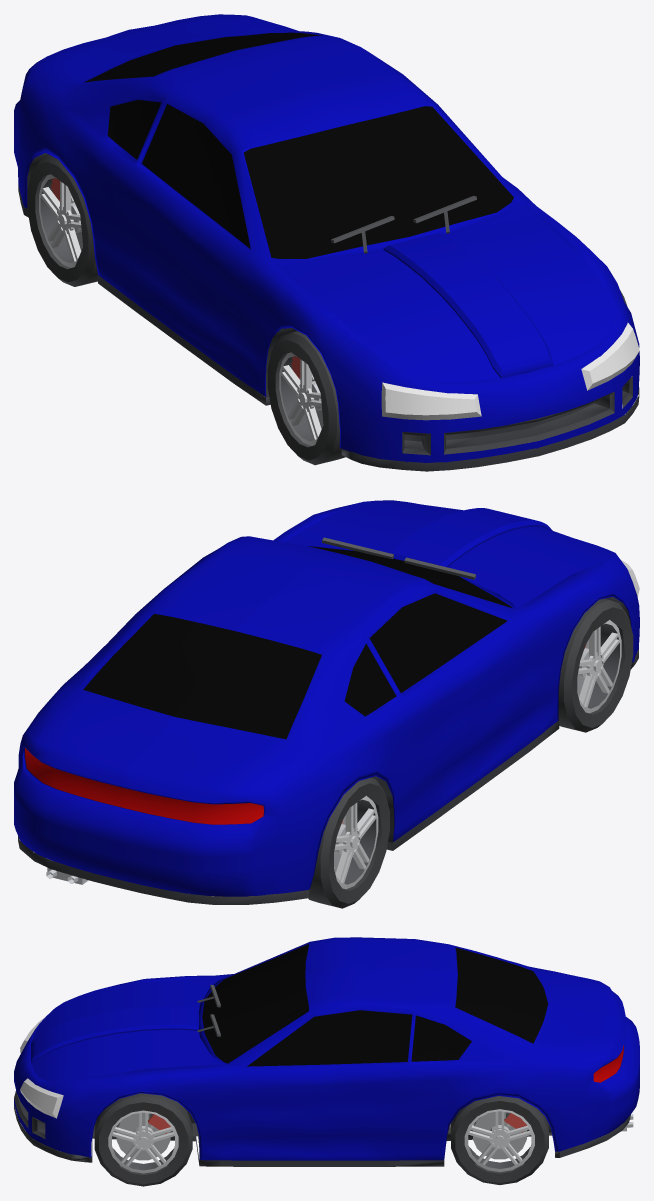
File: ridecheck-car.glb
The picture shows the model from 3 angles, top to bottom: view 1: azimuth 30°, elevation 25°; view 2: azimuth 150°, elevation 25°; view 3: azimuth 270°, elevation 25°; orthographic projection. The views are drawn at different scales.
Parts seen in each view (by area): view 1: SHELL_Body, SHELL_Hood, PART_tire_FR, PART_tire_RR, PART_wheel_FR_static, PART_wheel_RR_static, PART_wiperBlades; view 2: SHELL_Body, SHELL_Hood, PART_tire_FR, PART_tire_RR, PART_wheel_RR_static, PART_wheel_FR_static, PART_wiperBlades; view 3: SHELL_Body, SHELL_Hood, PART_tire_FL, PART_tire_RL, PART_wheel_RL_static, PART_wheel_FL_static, PART_brakeDisks_RL, PART_brakeDisks_FL.
Boxes of the visible parts, x1,y1,x2,y2 form: SHELL_Body: (14,14,639,471); SHELL_Hood: (272,200,616,382); PART_tire_FR: (267,331,345,465); PART_tire_RR: (27,155,98,286); PART_wheel_FR_static: (279,352,323,445); PART_wheel_RR_static: (39,174,82,267); PART_wiperBlades: (331,195,476,253); SHELL_Body: (14,500,639,904); SHELL_Hood: (284,500,616,609); PART_tire_FR: (558,598,633,732); PART_tire_RR: (308,777,389,908); PART_wheel_RR_static: (334,795,378,889); PART_wheel_FR_static: (577,620,621,713); PART_wiperBlades: (322,537,475,579); SHELL_Body: (14,937,639,1166); SHELL_Hood: (31,977,226,1082); PART_tire_FL: (94,1093,192,1186); PART_tire_RL: (451,1096,548,1184); PART_wheel_RL_static: (464,1109,534,1171); PART_wheel_FL_static: (108,1110,178,1173); PART_brakeDisks_RL: (473,1111,526,1159); PART_brakeDisks_FL: (116,1112,170,1160).
Size of the model in its own units: 1.86 by 1.32 by 4.5.
